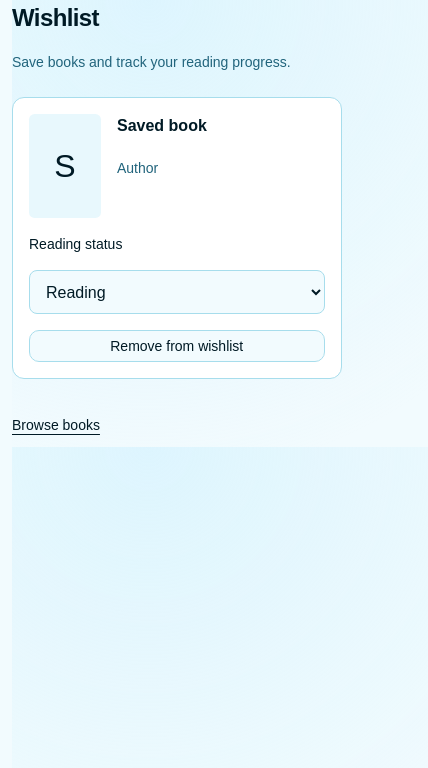
Test: keeps a failed removal visible and reports the error
Check: the link "Saved book" is shown, box [117,117,207,134]
Click the button "Remove from wishlist" at x=177, y=346, box [29,330,324,362]
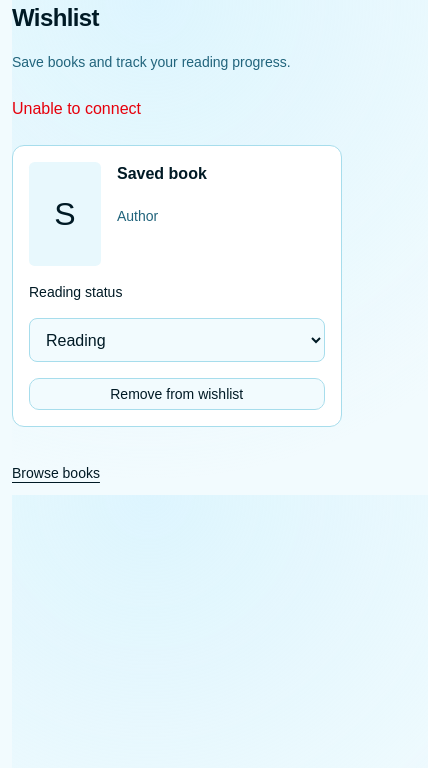
Check: the link "Saved book" is shown, box [117,165,207,182]
Check: the message reads "Unable to connect", box [12,100,141,117]
